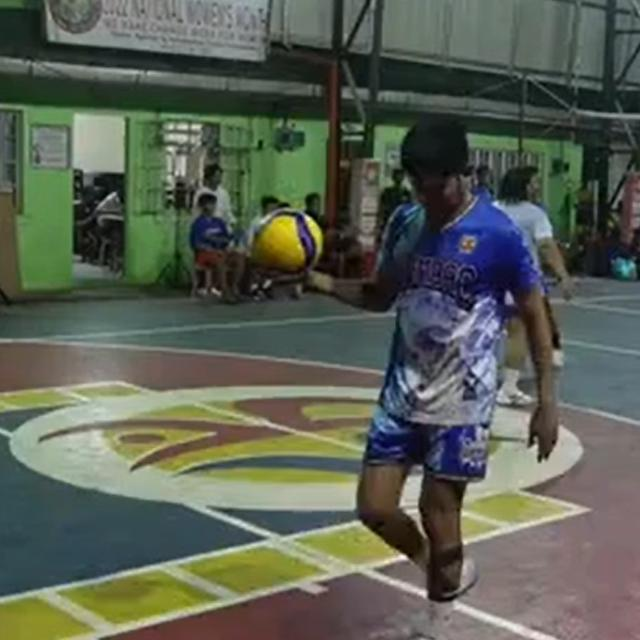volleyball: (251, 208, 323, 278)
